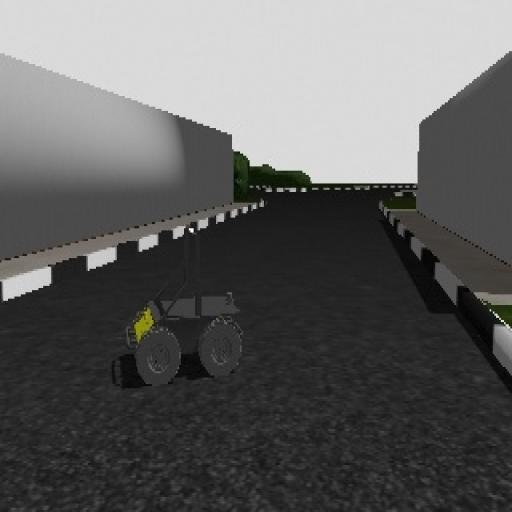huskya200: (120, 207, 250, 402)
